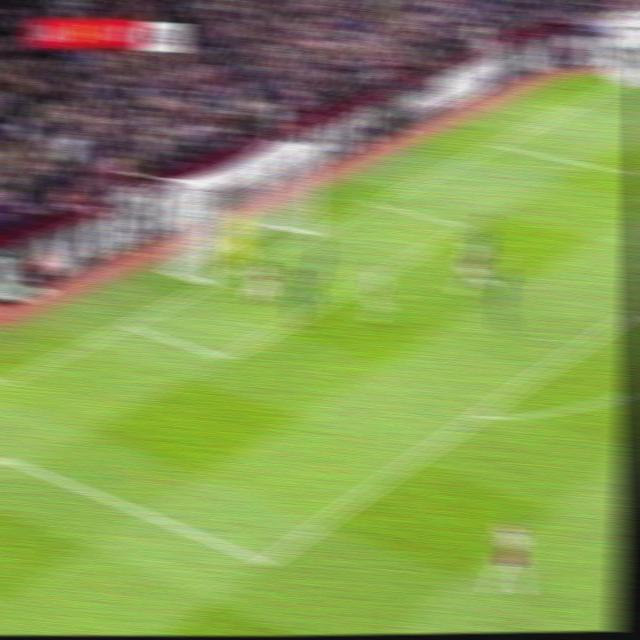bigarea_bottom_inner: (245, 544, 282, 579)
bigarea_top_outter: (481, 130, 509, 154)
bottom_arc_area_intersection: (460, 398, 496, 430)
corner: (605, 72, 637, 90)
smallarea_bottom_inner: (206, 339, 241, 372)
smallarea_bottom_outter: (111, 310, 142, 336)
smallarea_top_inner: (451, 213, 480, 238)
smallarea_top_outter: (362, 189, 391, 213)
